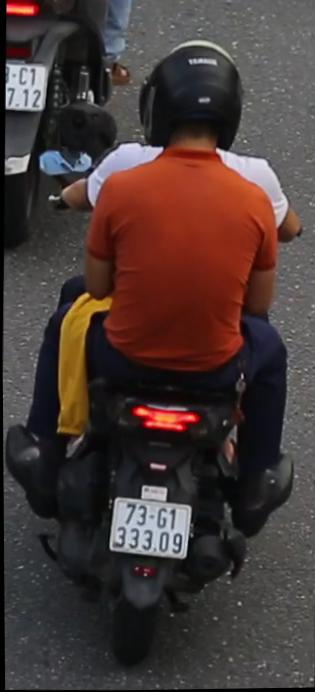LP: (105, 491, 193, 565), (4, 54, 48, 116)
helmet: (132, 29, 248, 165)
